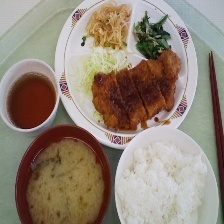rice: (115, 143, 224, 224)
